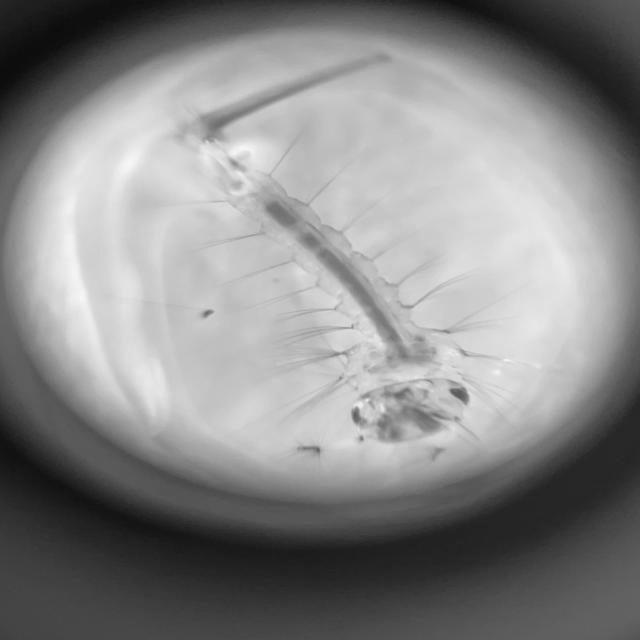larvas: (185, 115, 470, 437)
